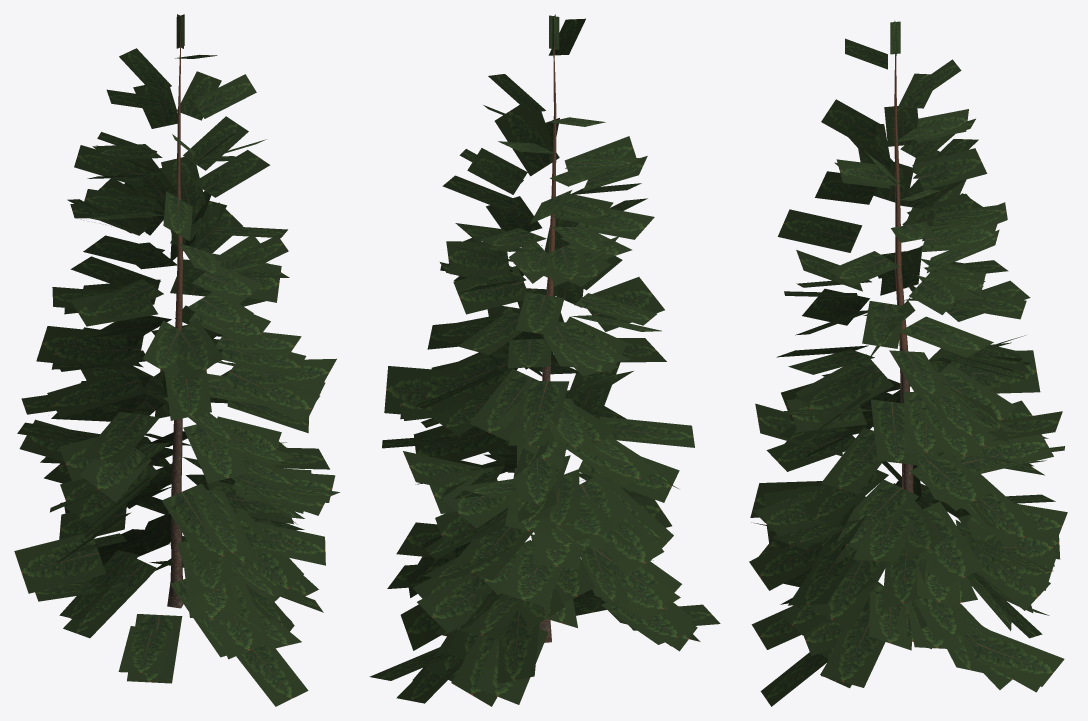
File: spruce_c_LOD2.fbx
The picture shows the model from 3 angles, left to right: view 1: azimuth 30°, elevation 25°; view 2: azimuth 150°, elevation 25°; view 3: azimuth 270°, elevation 25°; orthographic projection. The views are drawn at different scales.
Visible parts, largest first — view 1: Spruce_C_LOD2_Foliage, Spruce_C_LOD2_Bark; view 2: Spruce_C_LOD2_Foliage, Spruce_C_LOD2_Bark; view 3: Spruce_C_LOD2_Foliage, Spruce_C_LOD2_Bark.
Boxes of the visible parts, x1,y1,x2,y2 form: Spruce_C_LOD2_Foliage: (14,14,339,706); Spruce_C_LOD2_Bark: (167,18,183,608); Spruce_C_LOD2_Foliage: (369,14,720,706); Spruce_C_LOD2_Bark: (539,40,556,642); Spruce_C_LOD2_Foliage: (749,20,1067,706); Spruce_C_LOD2_Bark: (894,38,913,493).
Size of the model in its own units: 14.51 by 30.67 by 13.78.
Materials: 2 (2 with a texture image).
